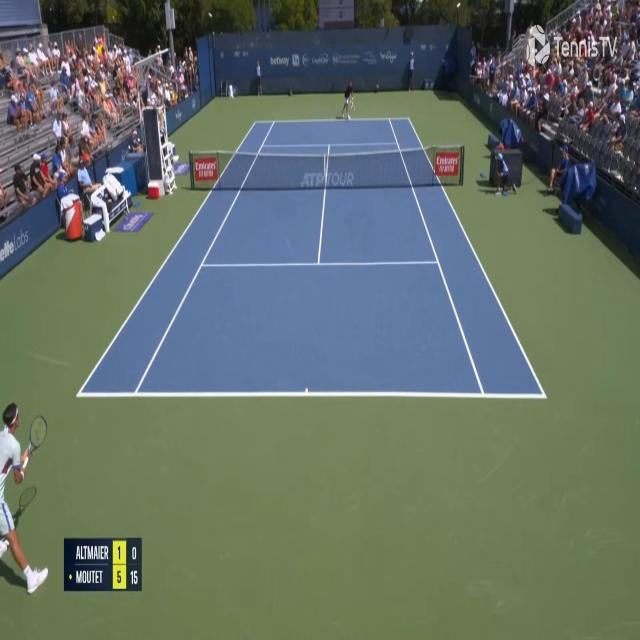tennis-player: (0, 396, 52, 600), (340, 76, 355, 121)
